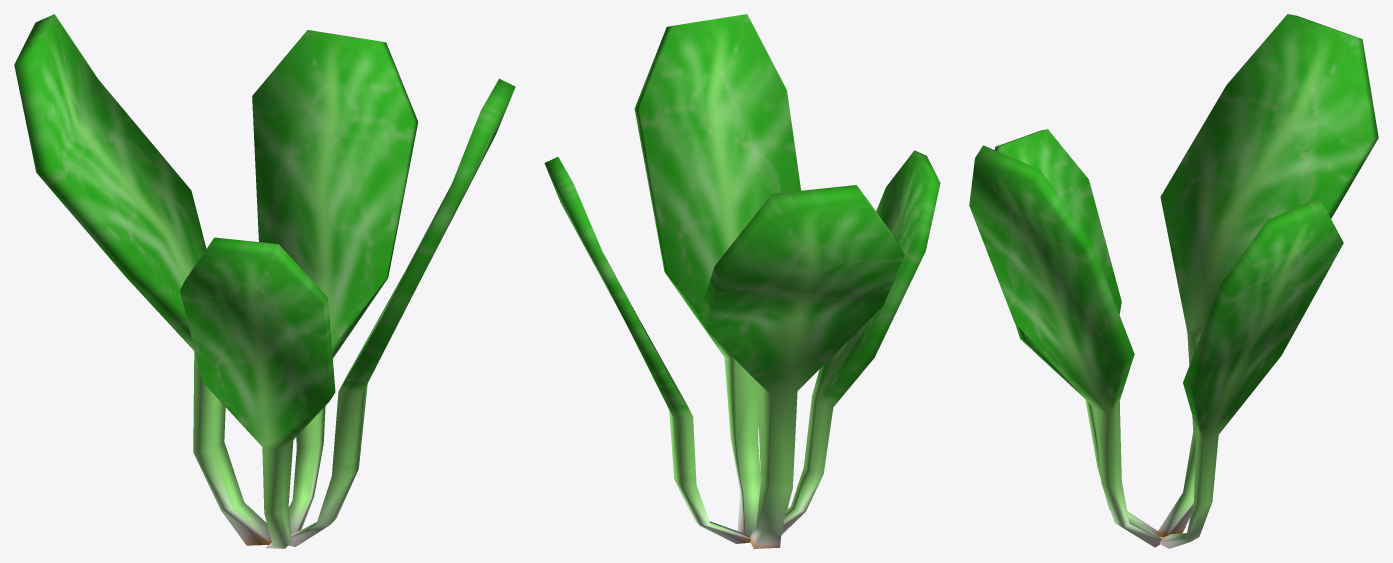
3 renders of one model, left to right at view 1: azimuth 30°, elevation 25°; view 2: azimuth 150°, elevation 25°; view 3: azimuth 270°, elevation 25°, orthographic. The views are drawn at different scales.
Visible parts, largest first — view 1: 立方体; view 2: 立方体; view 3: 立方体.
Boxes of the visible parts, x1,y1,x2,y2 form: 立方体: [14, 14, 515, 548]; 立方体: [544, 14, 940, 548]; 立方体: [969, 14, 1378, 548].
Size of the model in its own units: 1.66 by 2.01 by 1.68.
